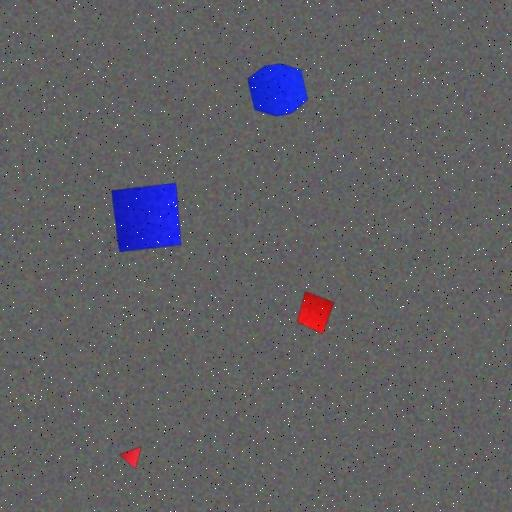BLUE_SQUARE: (110, 182, 182, 253)
RED_SQUARE: (296, 291, 335, 335)
